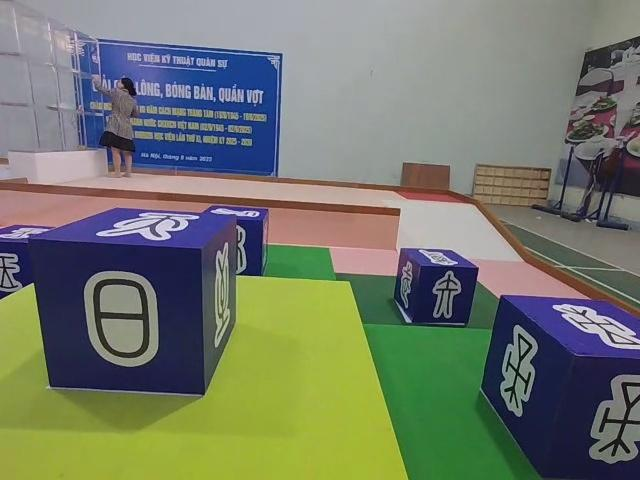R2 Fake Blue: (30, 201, 239, 395), (392, 247, 479, 328)
R2 Real Blue: (481, 285, 640, 480), (0, 226, 53, 301)
